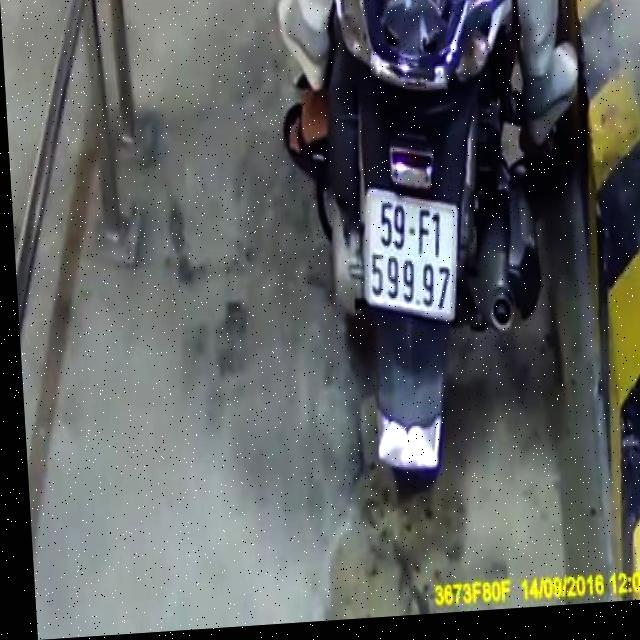motorcycle: (301, 0, 558, 522)
plate: (358, 177, 473, 330)
